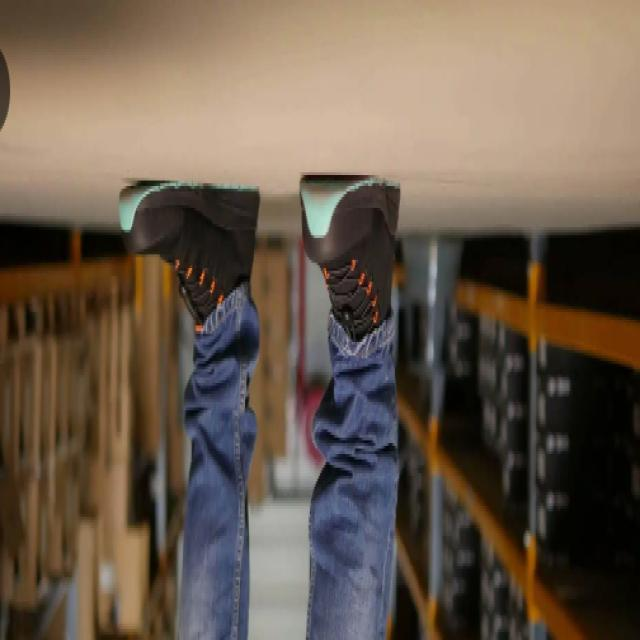shoes: (117, 168, 406, 370)
